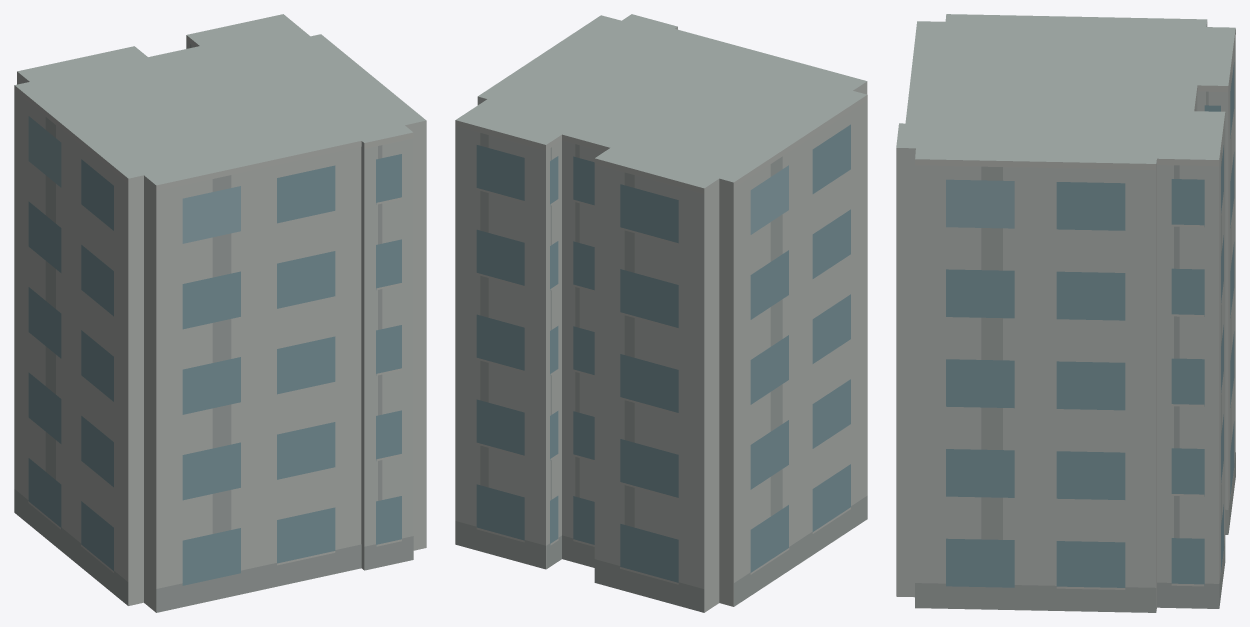
The model's file is survey-upis-32907459.glb.
3 renders of one model, left to right at view 1: azimuth 30°, elevation 25°; view 2: azimuth 150°, elevation 25°; view 3: azimuth 270°, elevation 25°, orthographic. The views are drawn at different scales.
Visible parts, largest first — view 1: survey-upis-32907459.tmp; view 2: survey-upis-32907459.tmp; view 3: survey-upis-32907459.tmp.
Part boxes in pixels (left/top/right/bottom): survey-upis-32907459.tmp: left=14, top=14, right=426, bottom=612; survey-upis-32907459.tmp: left=455, top=14, right=867, bottom=612; survey-upis-32907459.tmp: left=896, top=14, right=1235, bottom=612.
Bounding box in the file's own units: 12.66 × 17.66 × 12.12.
